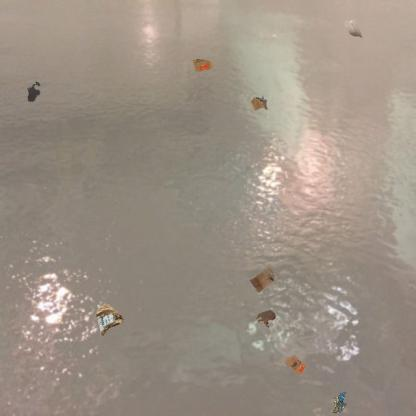dirty: (94, 302, 126, 338), (247, 263, 278, 295), (282, 352, 308, 378), (342, 17, 366, 40), (190, 57, 216, 75), (331, 390, 348, 415), (248, 94, 270, 113)
liquid: (254, 310, 276, 328), (26, 80, 42, 103)
